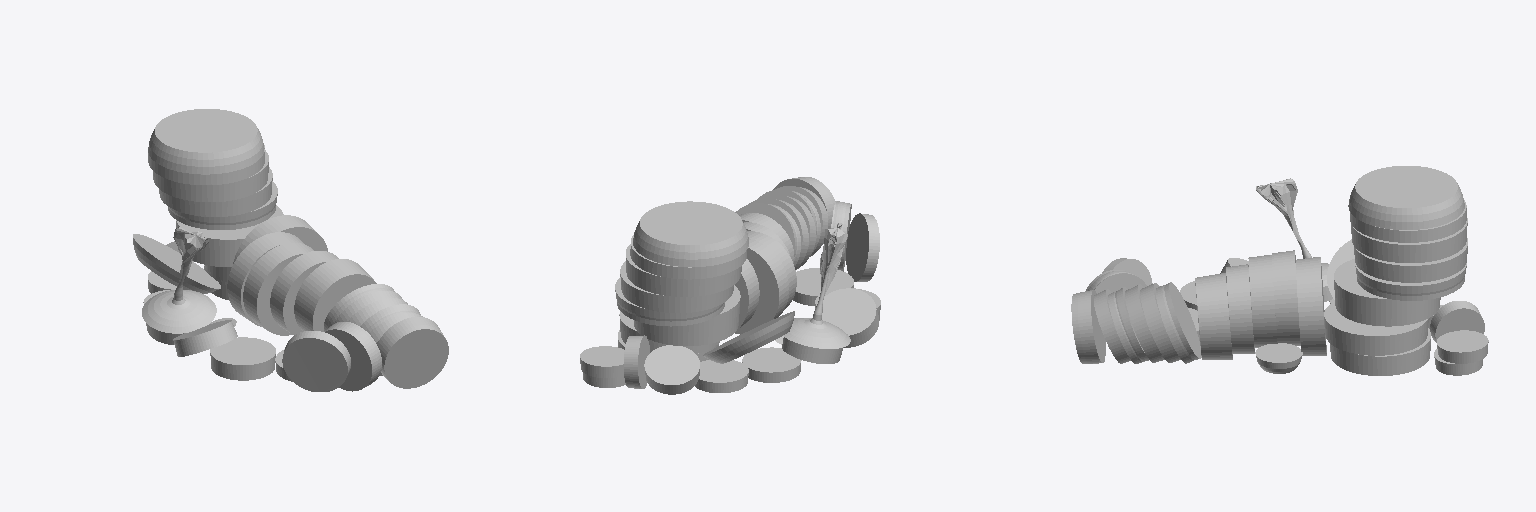
File: carotte_pot.obj
3 renders of one model, left to right at view 1: azimuth 30°, elevation 25°; view 2: azimuth 150°, elevation 25°; view 3: azimuth 270°, elevation 25°, orthographic.
Parts seen in each view (by area): view 1: Cylinder.033, Cylinder.015, Cylinder, Cylinder.013, Cylinder.021, Cylinder.023, Cylinder.011, Cylinder.034, Cylinder.022, Cylinder.014, Cylinder.031, Cylinder.024 (+10 smaller); view 2: Cylinder.033, Cylinder, Cylinder.024, Cylinder.028, Cylinder.010, Cylinder.006, Cylinder.031, Cylinder.013, Cylinder.030, Cylinder.034, Cylinder.008, Cylinder.029 (+17 smaller); view 3: Cylinder.033, Cylinder.028, Cylinder.027, Cylinder.021, Cylinder.025, Cylinder.031, Cylinder.030, Cylinder.024, Cylinder.023, Cylinder.020, Cylinder.026, Cylinder.022 (+15 smaller).
Part boxes in pixels (left/top/right/bottom): Cylinder.033: left=148, top=109, right=264, bottom=174; Cylinder.015: left=377, top=317, right=448, bottom=388; Cylinder: left=142, top=227, right=216, bottom=333; Cylinder.013: left=282, top=331, right=350, bottom=391; Cylinder.021: left=294, top=259, right=376, bottom=331; Cylinder.023: left=243, top=243, right=313, bottom=335; Cylinder.011: left=210, top=337, right=275, bottom=380; Cylinder.034: left=133, top=234, right=220, bottom=293; Cylinder.022: left=270, top=251, right=338, bottom=334; Cylinder.014: left=325, top=322, right=381, bottom=391; Cylinder.031: left=153, top=150, right=268, bottom=201; Cylinder.024: left=227, top=232, right=303, bottom=326; Cylinder.033: left=633, top=201, right=748, bottom=266; Cylinder: left=783, top=223, right=850, bottom=348; Cylinder.024: left=735, top=238, right=788, bottom=334; Cylinder.028: left=634, top=285, right=740, bottom=345; Cylinder.010: left=822, top=288, right=879, bottom=347; Cylinder.006: left=644, top=345, right=699, bottom=394; Cylinder.031: left=626, top=244, right=741, bottom=296; Cylinder.013: left=846, top=213, right=879, bottom=281; Cylinder.030: left=620, top=261, right=733, bottom=312; Cylinder.034: left=703, top=311, right=794, bottom=363; Cylinder.008: left=742, top=347, right=801, bottom=382; Cylinder.029: left=615, top=277, right=724, bottom=326; Cylinder.033: left=1348, top=166, right=1464, bottom=229; Cylinder.028: left=1334, top=259, right=1440, bottom=326; Cylinder.027: left=1324, top=301, right=1428, bottom=355; Cylinder.021: left=1195, top=273, right=1232, bottom=359; Cylinder.025: left=1296, top=257, right=1326, bottom=355; Cylinder.031: left=1351, top=218, right=1467, bottom=262; Cylinder.030: left=1354, top=238, right=1467, bottom=282; Cylinder.024: left=1272, top=250, right=1300, bottom=345; Cylinder.023: left=1248, top=255, right=1277, bottom=347; Cylinder.020: left=1156, top=282, right=1201, bottom=363; Cylinder.026: left=1330, top=328, right=1430, bottom=375; Cylinder.022: left=1226, top=264, right=1254, bottom=353.
Size of the model in its own units: 3.61 by 2.81 by 6.98.